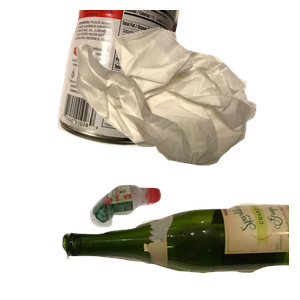glass: (60, 201, 300, 300)
metal: (55, 10, 227, 149)
plastic: (88, 182, 242, 300)
trash: (73, 25, 300, 183)
